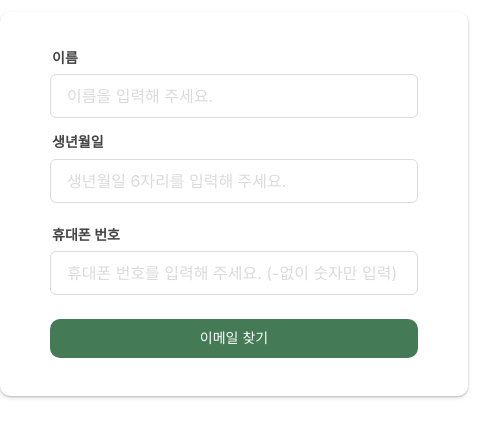
Test: 이메일 찾기 폼 테스트 › 각 인풋에 입력값 없이 제출 버튼을 누르면 입력을 요구하는 메시지가 보여야 한다.
What coordinates should you click on to do the following:
click the button "이메일 찾기"
I would click on:
 (234, 339)
Its box is [50,320,418,358].
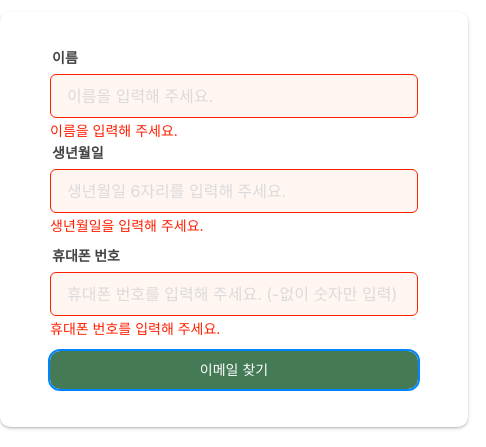
Expected: the text "이름을 입력해 주세요." is shown, [50,122,178,140]
Expected: the text "생년월일을 입력해 주세요." is shown, [50,218,204,234]
Expected: the text "휴대폰 번호를 입력해 주세요." is shown, [50,320,220,338]
